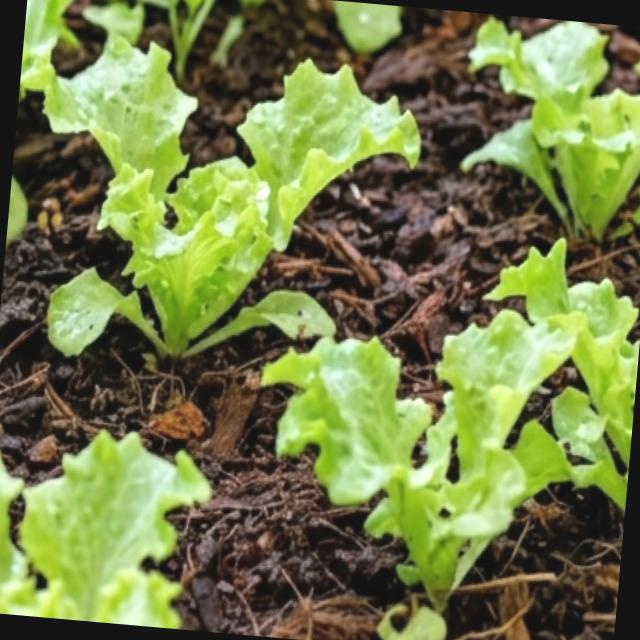inmadura: (47, 39, 419, 354), (264, 310, 573, 609)
